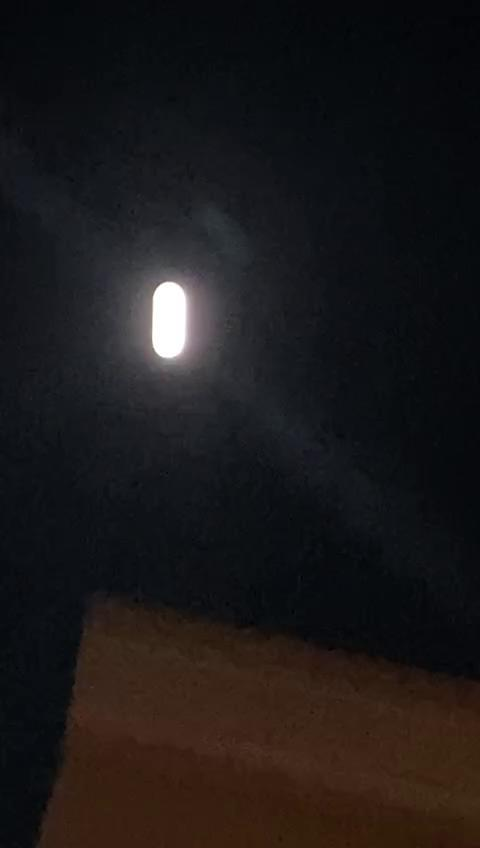moon: (138, 270, 206, 365)
